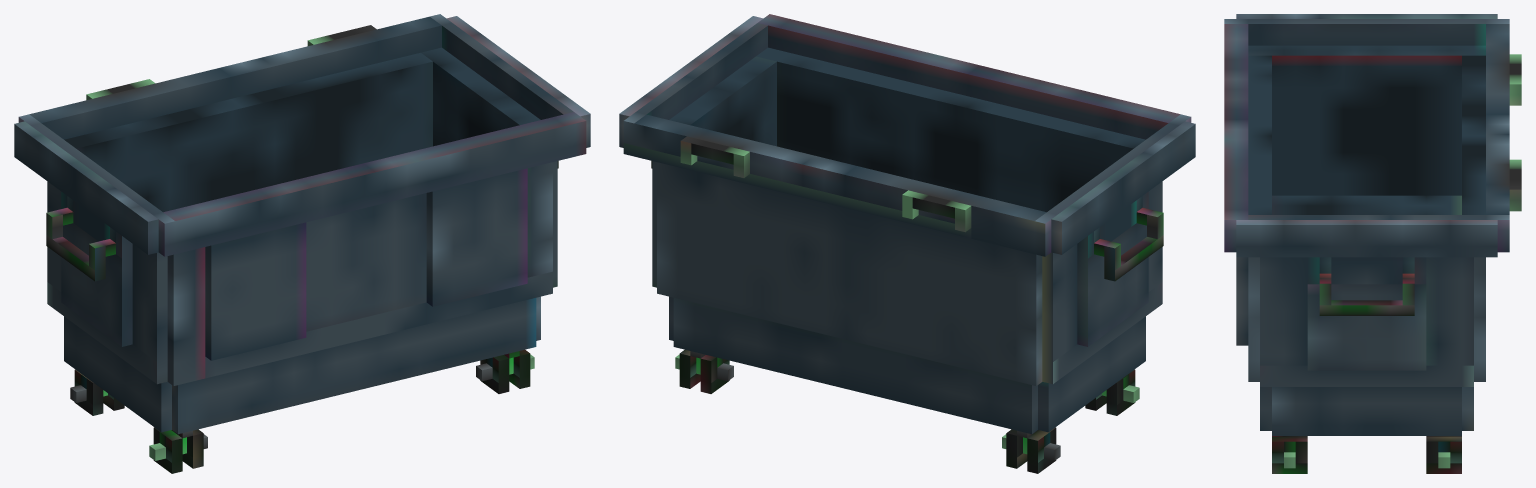
File: Trash_Container_A_00.fbx
The picture shows the model from 3 angles, left to right: view 1: azimuth 30°, elevation 25°; view 2: azimuth 150°, elevation 25°; view 3: azimuth 270°, elevation 25°; orthographic projection. The views are drawn at different scales.
Visible parts, largest first — view 1: Trash_Container_A_00; view 2: Trash_Container_A_00; view 3: Trash_Container_A_00.
Part boxes in pixels (box(x1,y1,x2,y2)): Trash_Container_A_00: box(14, 14, 590, 473); Trash_Container_A_00: box(619, 14, 1195, 473); Trash_Container_A_00: box(1224, 14, 1521, 473).
Size of the model in its own units: 220 by 125 by 125.
